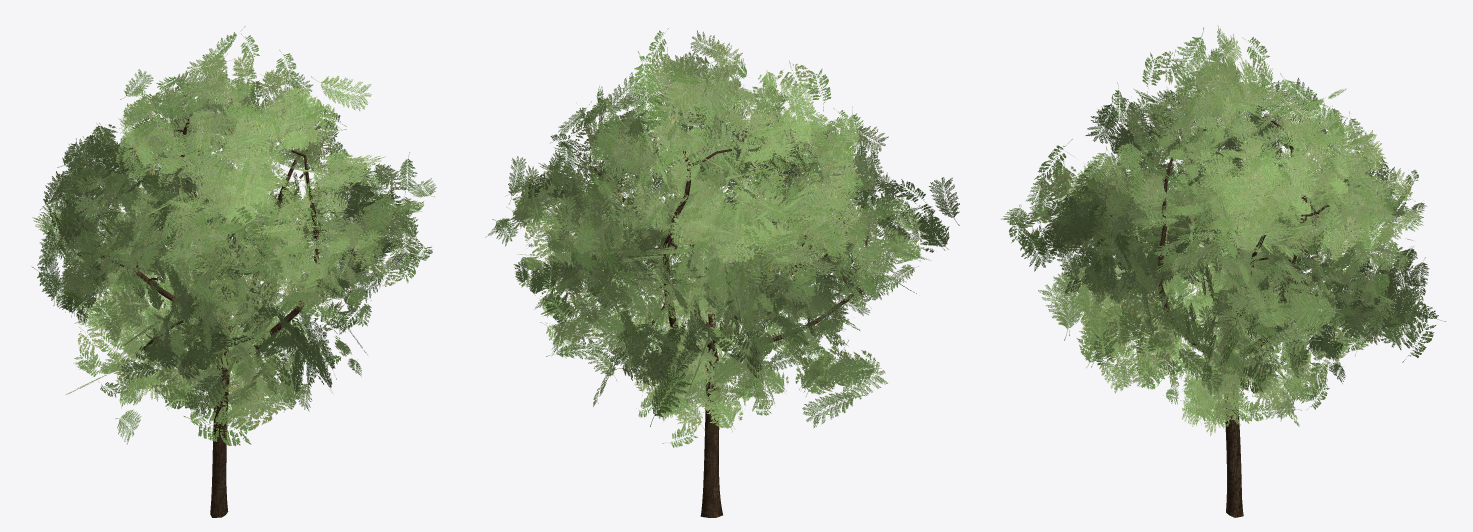
The model's file is tree_locust_v1_l0.glb.
3 renders of one model, left to right at view 1: azimuth 30°, elevation 25°; view 2: azimuth 150°, elevation 25°; view 3: azimuth 270°, elevation 25°, orthographic.
Parts seen in each view (by area): view 1: tree_locust_v1_l0; view 2: tree_locust_v1_l0; view 3: tree_locust_v1_l0.
Part boxes in pixels (x1,y1,x2,y2): tree_locust_v1_l0: (31, 26, 436, 517); tree_locust_v1_l0: (485, 28, 959, 517); tree_locust_v1_l0: (1001, 25, 1445, 517).
Bounding box in the file's own units: 9.29 × 10.3 × 8.85.
Materials: 2 (2 with a texture image).
